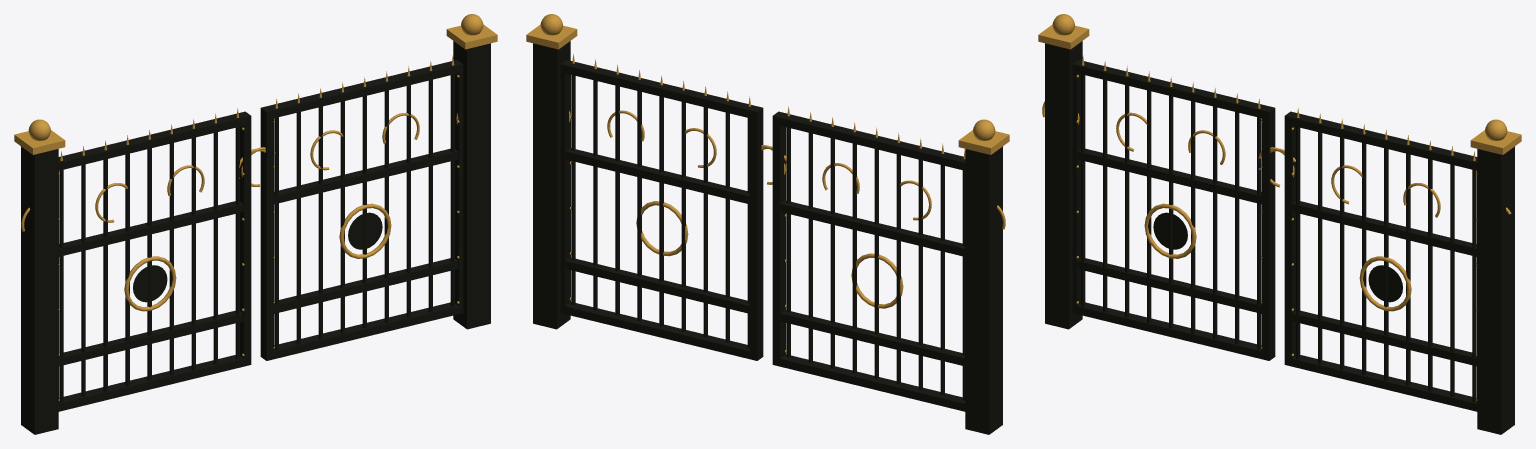
The model's file is main-villa-gate.glb.
3 renders of one model, left to right at view 1: azimuth 30°, elevation 25°; view 2: azimuth 150°, elevation 25°; view 3: azimuth 330°, elevation 25°, orthographic.
Bounding box in the file's own units: 4.34 × 2.71 × 0.3.
